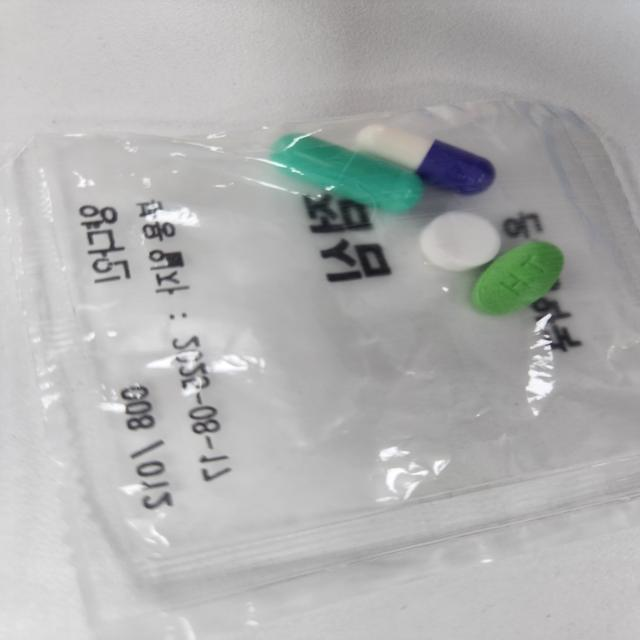러키펜정: (415, 212, 502, 273)
씨엠지세파클러캡슐: (346, 124, 498, 198)
에르도캡슐: (269, 133, 425, 216)
휴티렌정: (471, 240, 564, 318)
